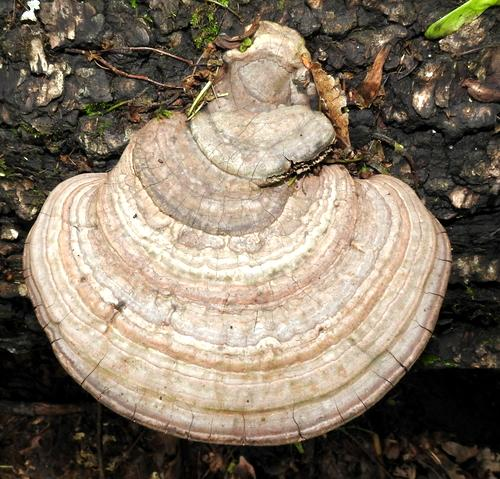Ganoderma - Fruit Body: (16, 158, 458, 453), (181, 22, 331, 182)
